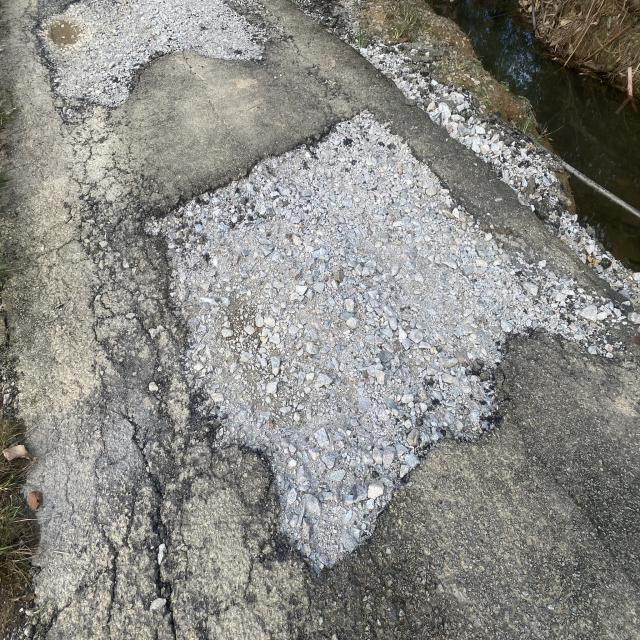pothole: (117, 63, 554, 592)
